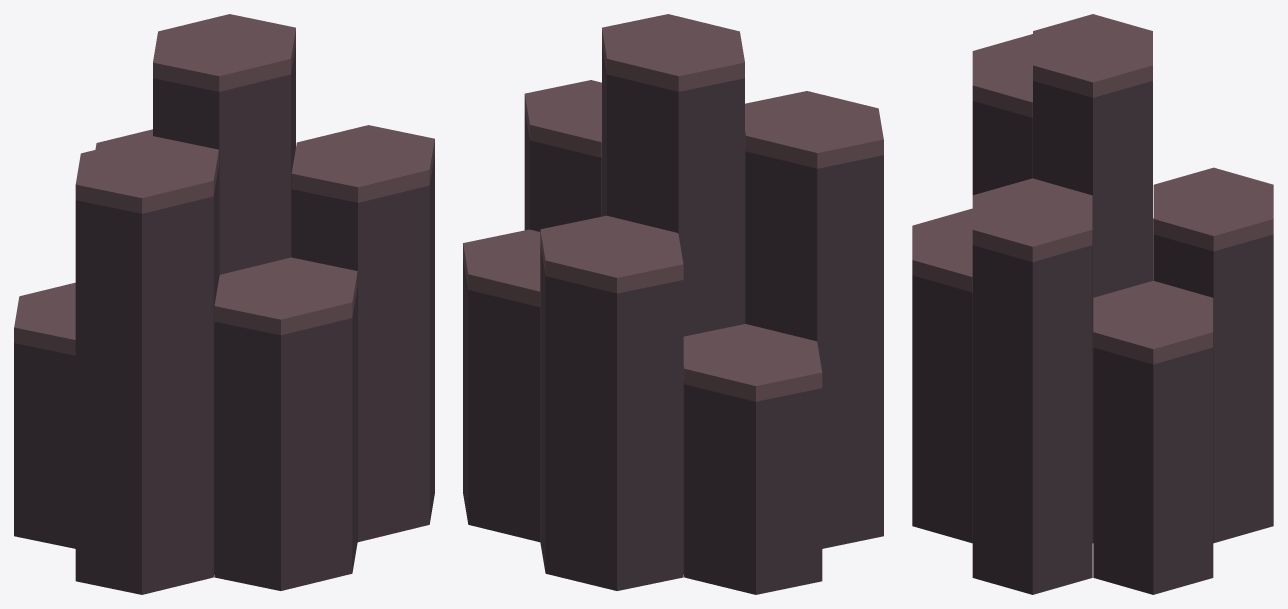
Rendered from env_r3_basalt_columns.glb.
3 views of the same model, side by side, from view 1: azimuth 30°, elevation 25°; view 2: azimuth 150°, elevation 25°; view 3: azimuth 270°, elevation 25° (orthographic).
Parts seen in each view (by area): view 1: env_r3_basalt_columns; view 2: env_r3_basalt_columns; view 3: env_r3_basalt_columns.
Part boxes in pixels (left/top/right/bottom): env_r3_basalt_columns: left=14, top=14, right=434, bottom=594; env_r3_basalt_columns: left=463, top=14, right=883, bottom=594; env_r3_basalt_columns: left=912, top=14, right=1273, bottom=594.
Size of the model in its own units: 3.6 by 4.5 by 3.2.
Materials: 1 (1 with a texture image).
